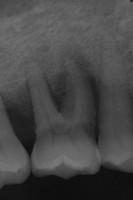Dental Caries: (46, 41, 101, 112)
